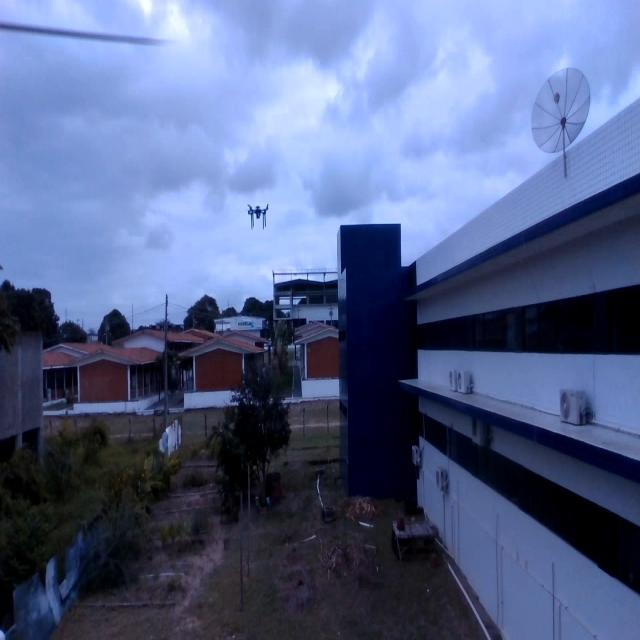-uav-: (238, 194, 278, 239)
